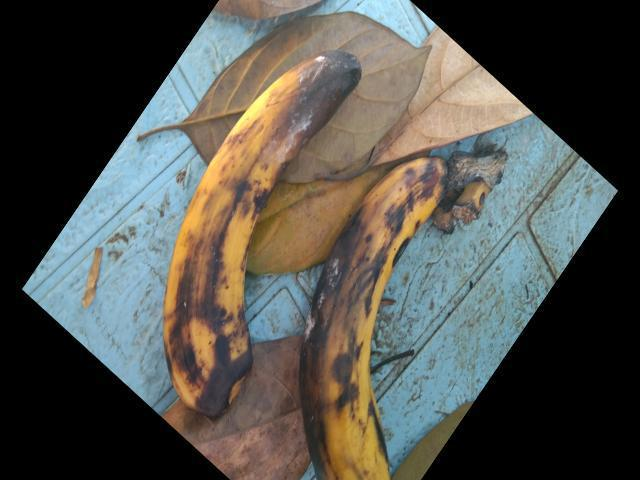rotten: (146, 46, 365, 392), (289, 160, 470, 479)
